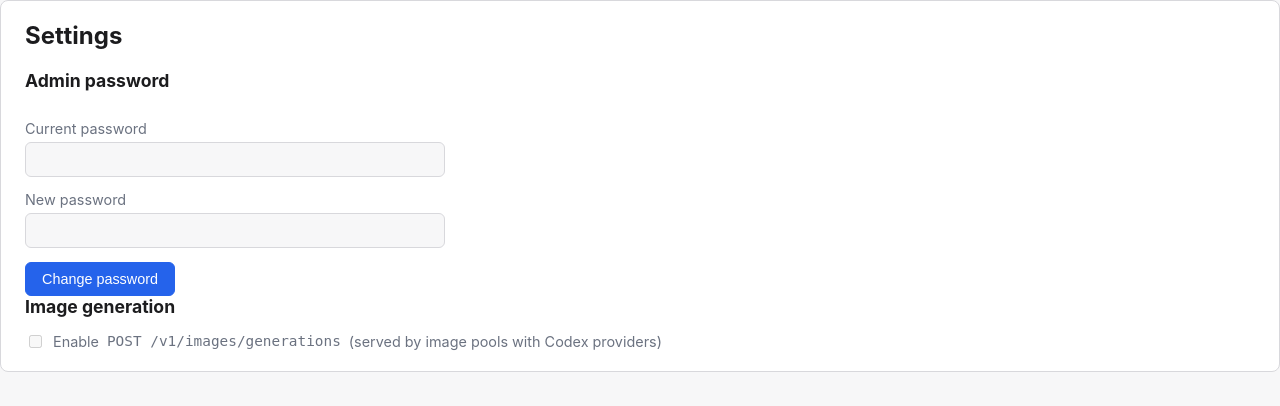
Test: Settings › surfaces_an_error_when_password_change_fails
This screenshot has width=1280, height=406.
Type "wrong" into the password field labelled "Current password".
click(235, 159); type("wrong")  # box [25,142,445,177]
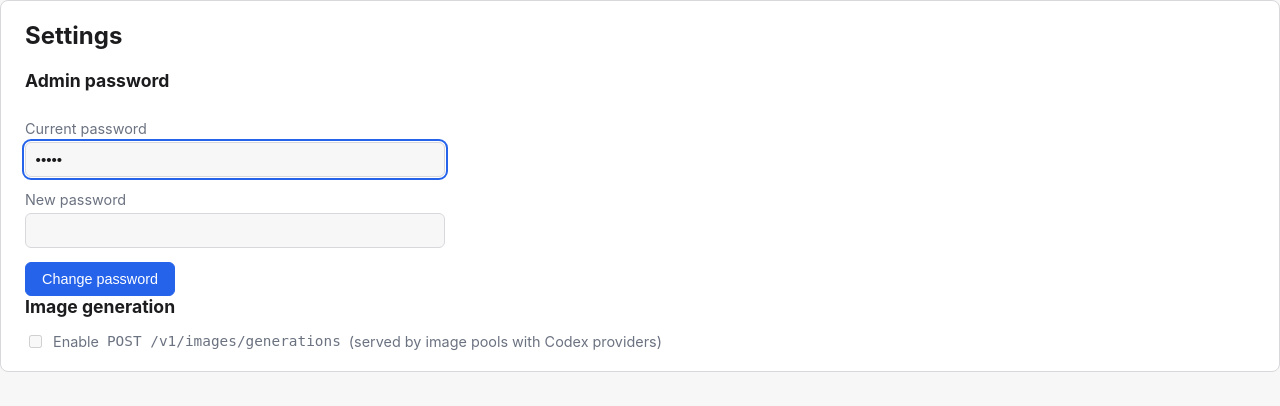
Type "new-secret" into the password field labelled "New password".
click(235, 230); type("new-secret")  # box [25,213,445,248]
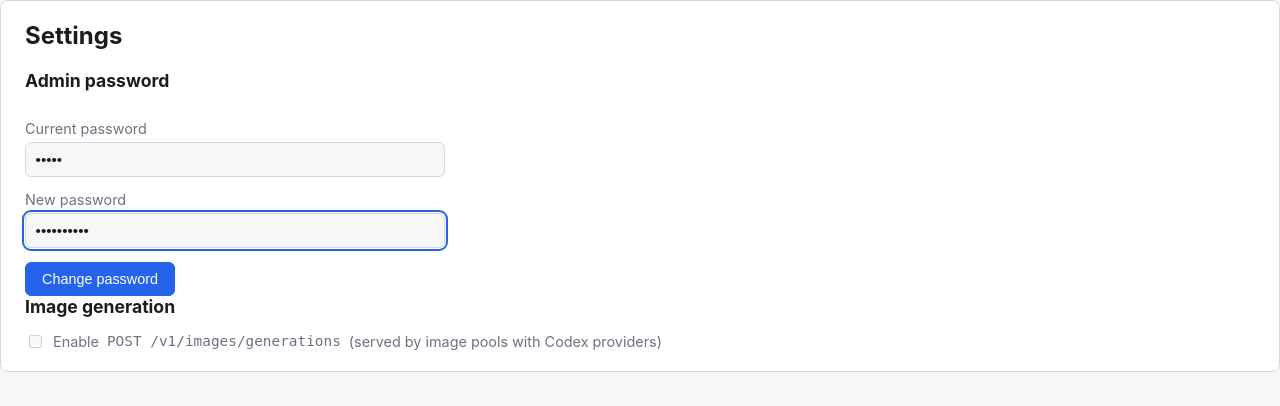
Click the button "Change password".
click(100, 279)  # box [25,262,175,296]
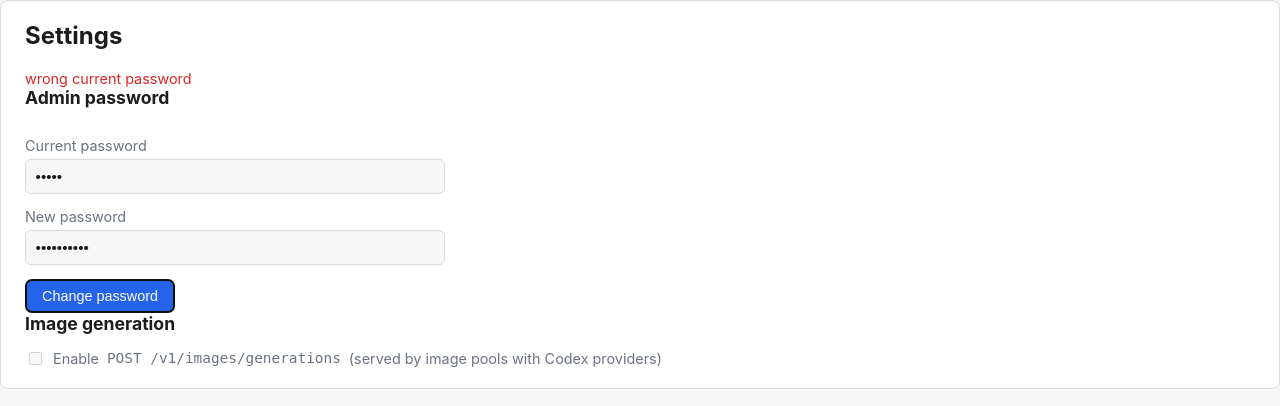
Expected: the message reads "wrong current password", [25,70,192,87]
